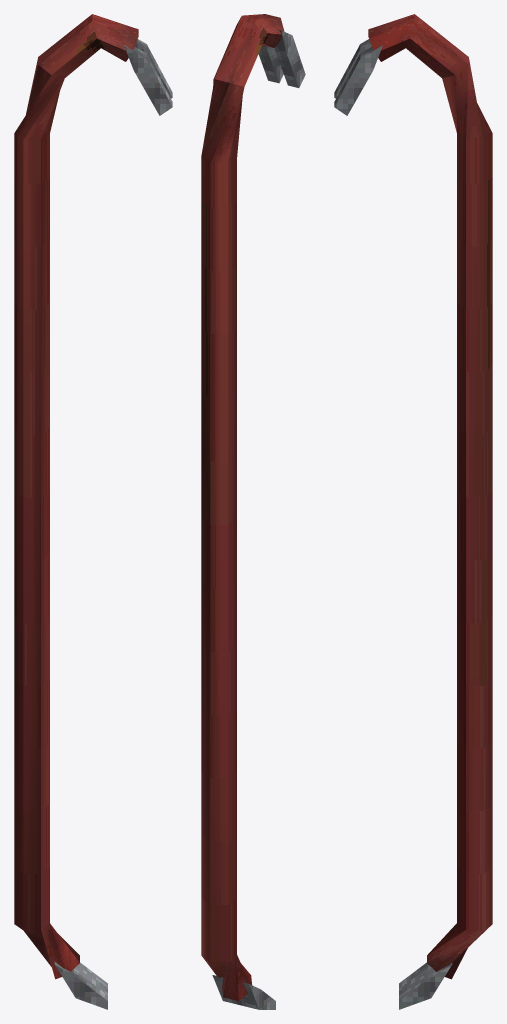
The model's file is crowbar.glb.
The picture shows the model from 3 angles, left to right: view 1: azimuth 90°, elevation 25°; view 2: azimuth 150°, elevation 25°; view 3: azimuth 270°, elevation 25°; orthographic projection.
Parts seen in each view (by area): view 1: crowbar; view 2: crowbar; view 3: crowbar.
Part boxes in pixels (x1=…): crowbar: x1=14, y1=14, x2=172, y2=1009; crowbar: x1=201, y1=14, x2=305, y2=1009; crowbar: x1=334, y1=14, x2=492, y2=1009.
Size of the model in its own units: 0.026 by 0.6721 by 0.098.
Materials: 1 (1 with a texture image).
